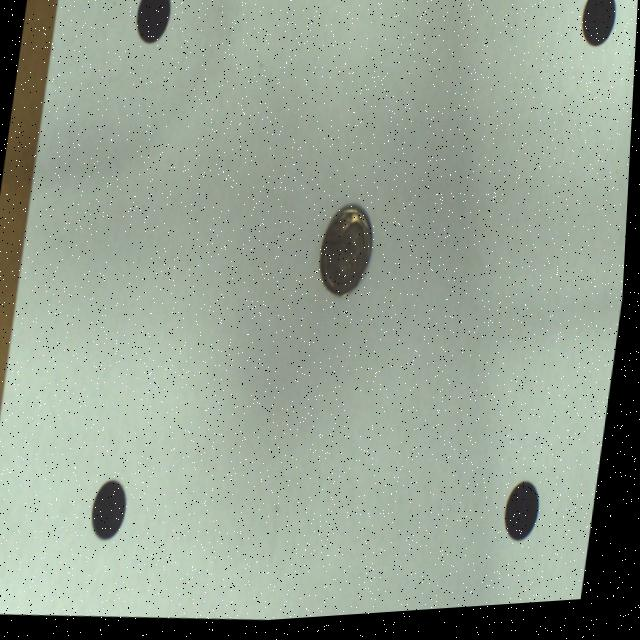head5bath: (322, 210, 375, 301)
space: (510, 489, 545, 548), (97, 482, 132, 541), (582, 0, 616, 54), (136, 0, 170, 46)
